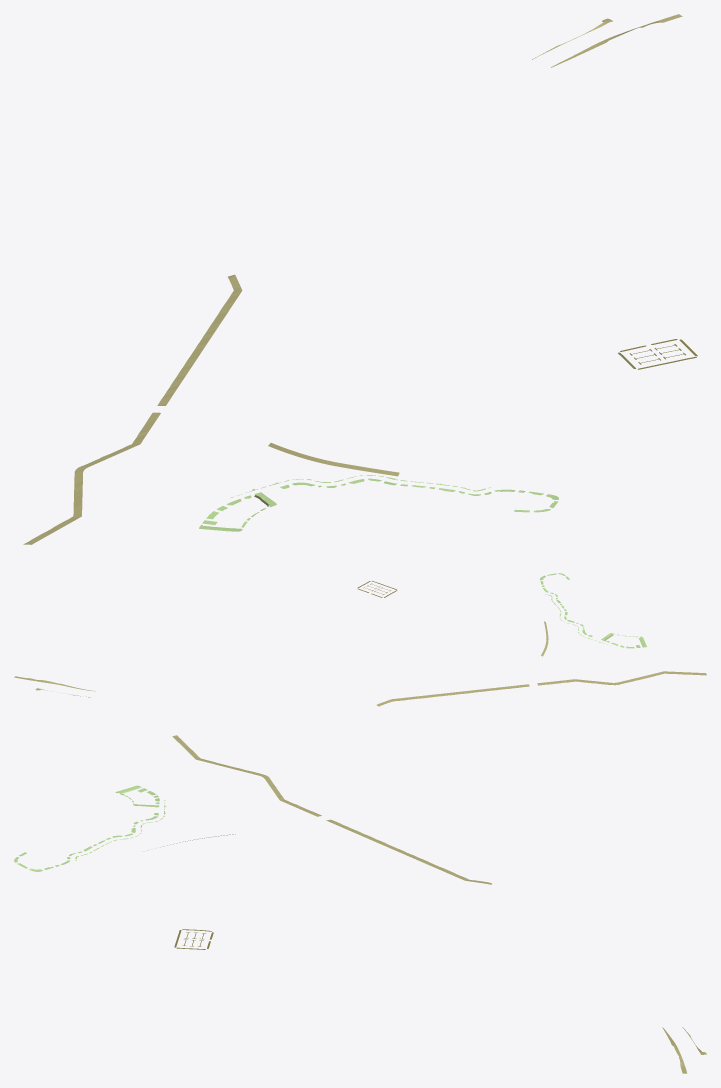
File: groundfill.dae
3 views of the same model, one above another, from view 1: azimuth 30°, elevation 25°; view 2: azimuth 150°, elevation 25°; view 3: azimuth 270°, elevation 25° (orthographic). The views are drawn at different scales.
Visible parts, largest first — view 1: groundfill; view 2: groundfill; view 3: groundfill.
Boxes of the visible parts, x1,y1,x2,y2 form: groundfill: [23, 14, 697, 544]; groundfill: [14, 573, 706, 706]; groundfill: [14, 735, 706, 1073].
Bounding box in the file's own units: 2102 × 1767 × 52.23.
